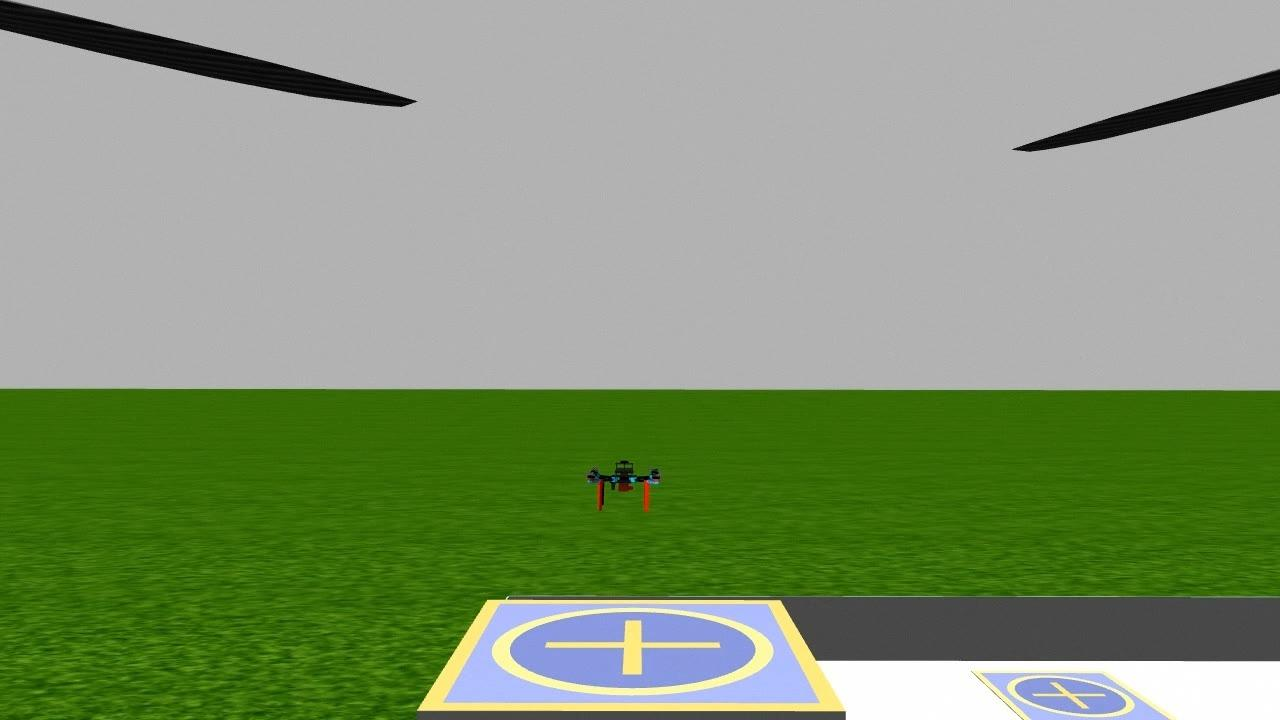UAV: (561, 451, 685, 522)
